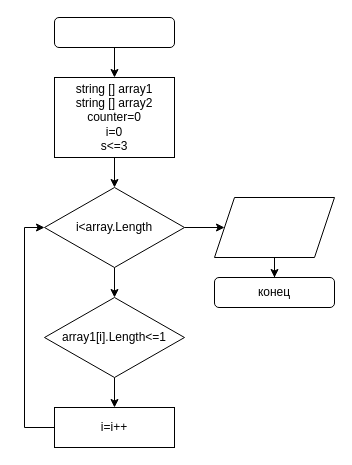
The diagram is 352 pixels wide and 465 high, and some of its shapes have lost their labels. The shapes that lost their labels are listed below. From the top down, each one's box as (x1, y1, x2, y2) in pixels, then its label:
(54, 16, 174, 48): начало
(214, 196, 334, 258): Вывод array
